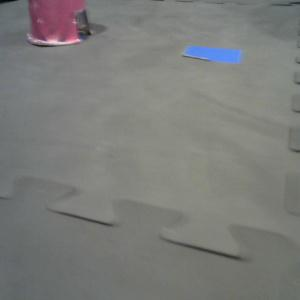middle: (26, 1, 94, 46)
